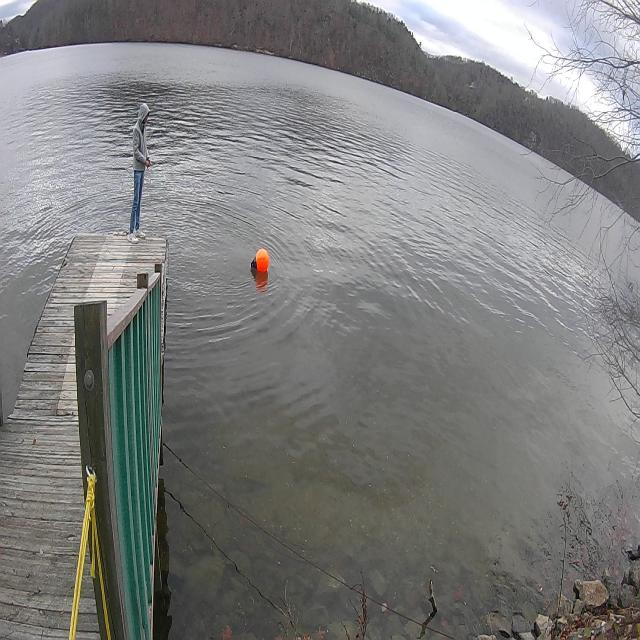Buoy: (250, 244, 272, 279)
